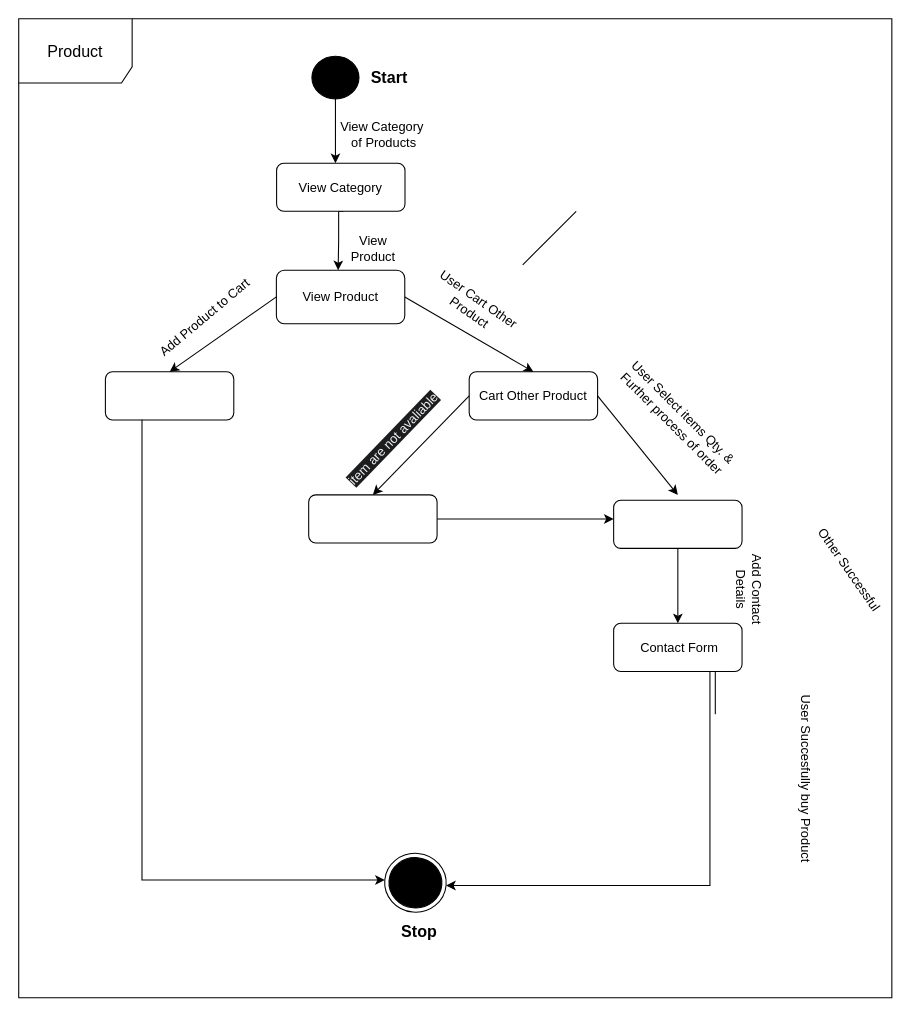
The diagram is 915 pixels wide and 1017 high, and some of its shapes have lost their labels. Each missing label, with the centre of its shape:
"Add to Cart" belongs at point 169,395.
"Check out" belongs at point 677,523.
"Pending" belongs at point 372,518.
